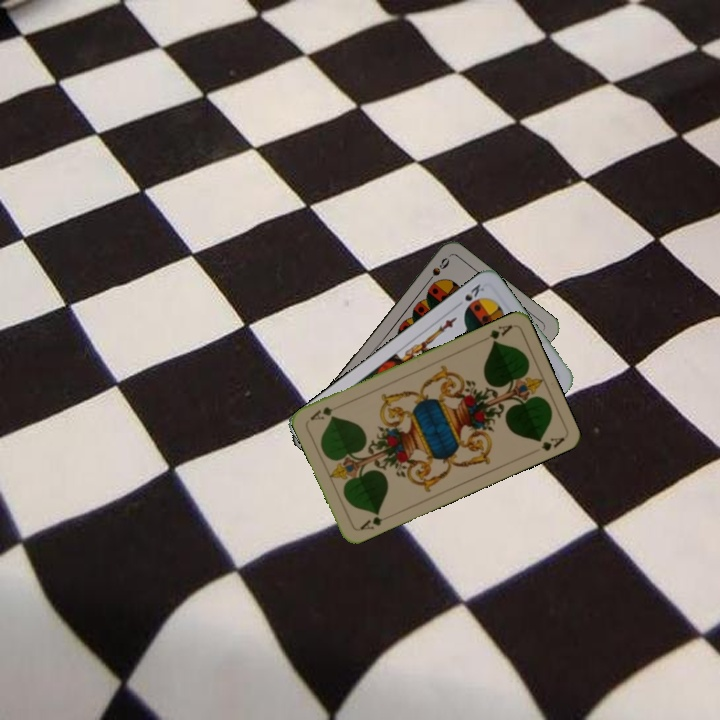GA: (477, 321, 515, 346), (355, 508, 385, 533)
S9: (422, 253, 452, 287)
SK: (460, 280, 487, 304)
